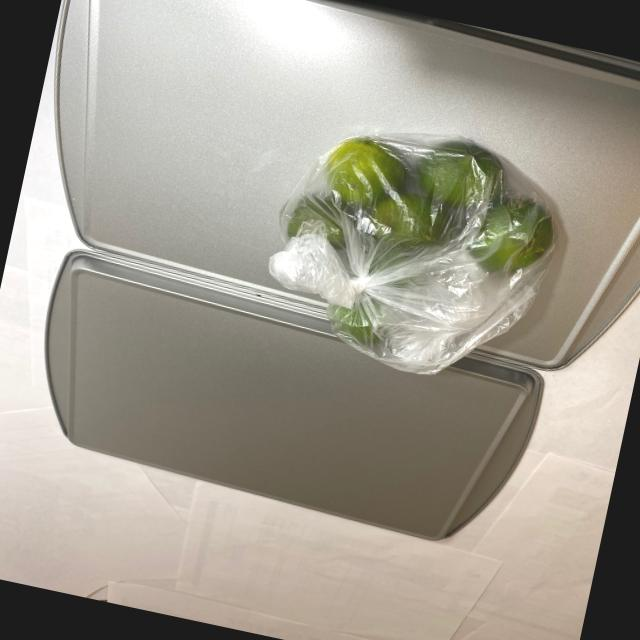lemon: (262, 115, 580, 386)
